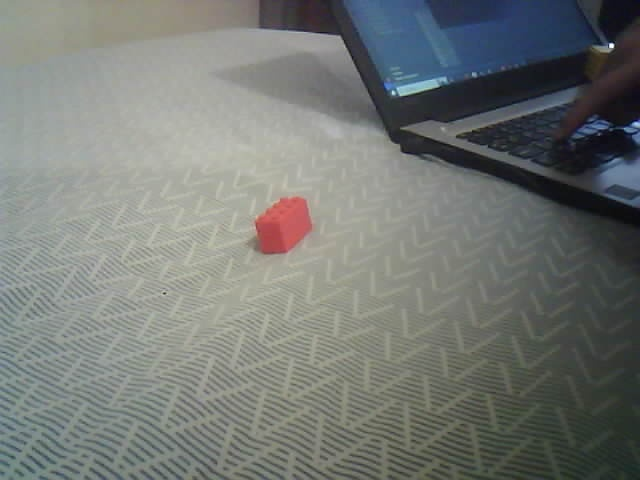lego: (254, 195, 314, 253)
